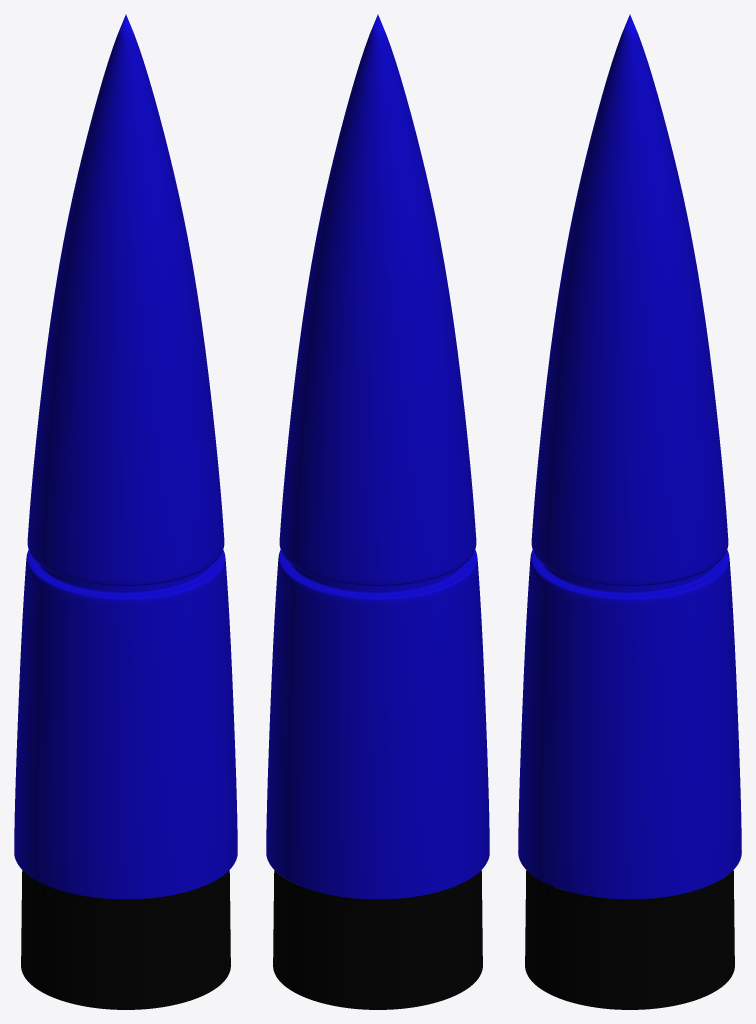
The model's file is Head.fbx.
The picture shows the model from 3 angles, left to right: view 1: azimuth 30°, elevation 25°; view 2: azimuth 150°, elevation 25°; view 3: azimuth 270°, elevation 25°; orthographic projection.
Visible parts, largest first — view 1: Sphere; view 2: Sphere; view 3: Sphere.
Part boxes in pixels (x1,y1,x2,y2): Sphere: (14, 14, 237, 1009); Sphere: (266, 14, 489, 1009); Sphere: (518, 14, 741, 1009).
Bounding box in the file's own units: 196 × 922 × 196.
